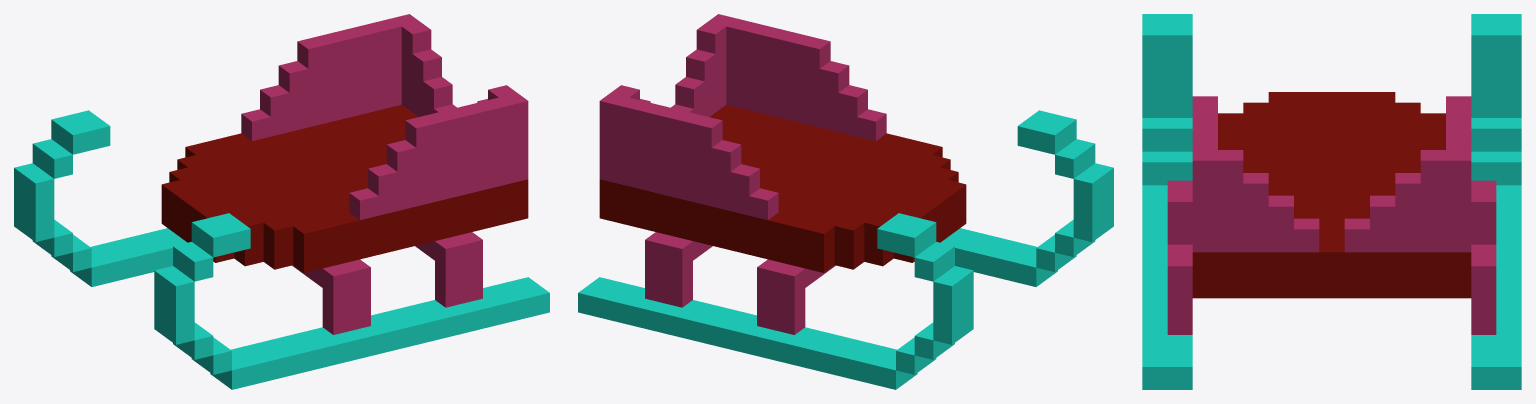
Rendered from Vehicle_16.fbx.
3 renders of one model, left to right at view 1: azimuth 30°, elevation 25°; view 2: azimuth 150°, elevation 25°; view 3: azimuth 270°, elevation 25°, orthographic. The views are drawn at different scales.
Parts seen in each view (by area): view 1: Vehicle_16; view 2: Vehicle_16; view 3: Vehicle_16.
Boxes of the visible parts, left/top/right/bottom form: Vehicle_16: left=14, top=14, right=549, bottom=389; Vehicle_16: left=578, top=14, right=1113, bottom=389; Vehicle_16: left=1142, top=14, right=1521, bottom=389.
Size of the model in its own units: 20 by 10 by 15.
Materials: 1 (1 with a texture image).
